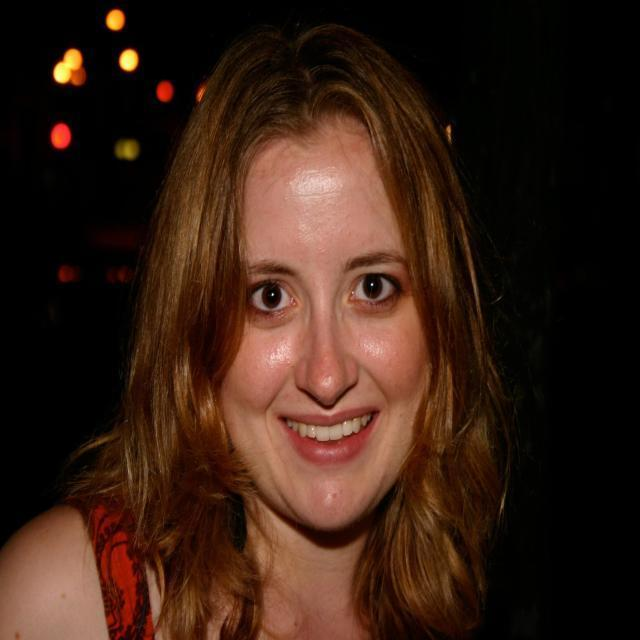puffy_eyes: (344, 290, 405, 328), (246, 310, 299, 340)
